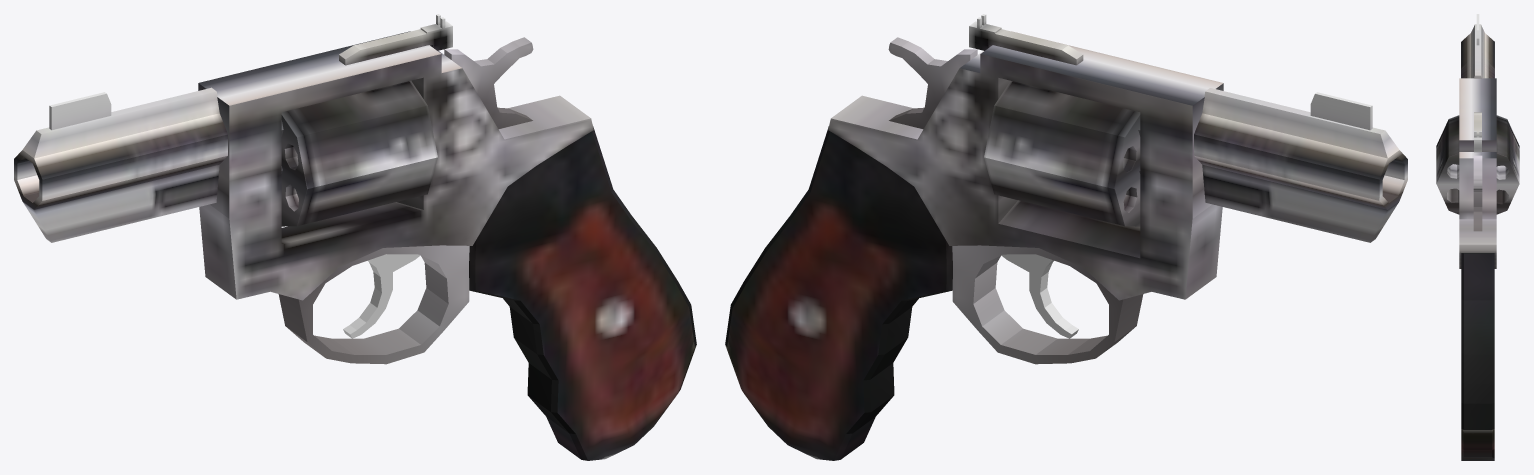
3 views of the same model, side by side, from view 1: azimuth 30°, elevation 25°; view 2: azimuth 150°, elevation 25°; view 3: azimuth 270°, elevation 25° (orthographic). The views are drawn at different scales.
Visible parts, largest first — view 1: Upper, Cylinder, Hammer, Trigger; view 2: Upper, Cylinder, Hammer, Trigger; view 3: Upper, Cylinder, Hammer.
Part boxes in pixels (bbox=[...]): Upper: bbox=[14, 14, 696, 460]; Cylinder: bbox=[281, 81, 437, 226]; Hammer: bbox=[444, 37, 533, 129]; Trigger: bbox=[343, 254, 420, 338]; Upper: bbox=[725, 14, 1407, 460]; Cylinder: bbox=[984, 81, 1140, 226]; Hammer: bbox=[888, 37, 977, 129]; Trigger: bbox=[1001, 254, 1078, 338]; Upper: bbox=[1459, 14, 1496, 460]; Cylinder: bbox=[1436, 115, 1519, 214]; Hammer: bbox=[1473, 155, 1482, 231].
Size of the model in its own units: 451 by 311 by 82.45.
1 material, 1 textured.
